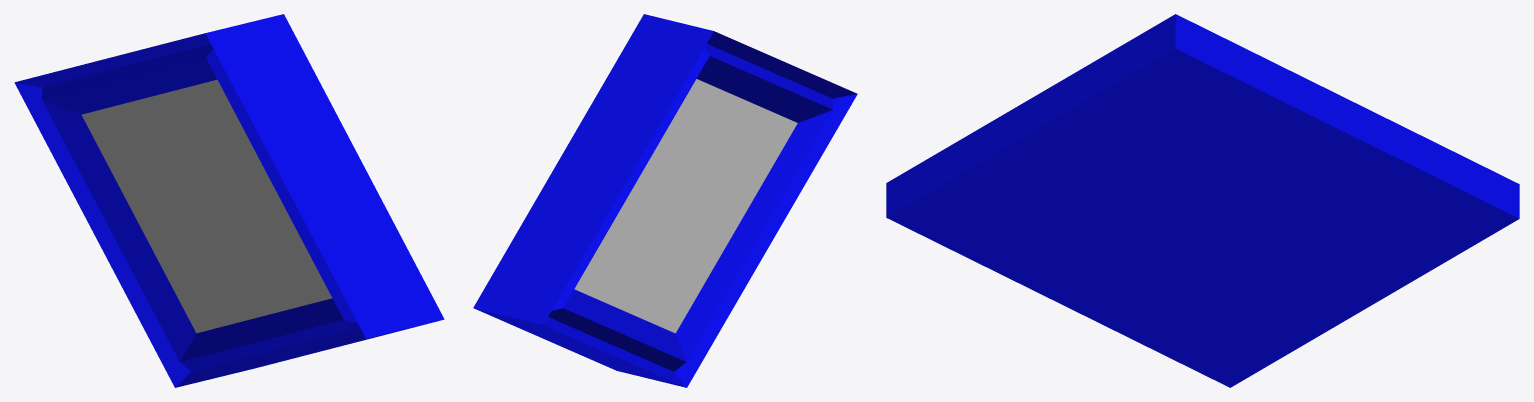
The model's file is BallarinaPainting.fbx.
3 views of the same model, side by side, from view 1: azimuth 30°, elevation 25°; view 2: azimuth 150°, elevation 25°; view 3: azimuth 270°, elevation 25° (orthographic). The views are drawn at different scales.
Visible parts, largest first — view 1: Painting1; view 2: Painting1; view 3: Painting1.
Boxes of the visible parts, bbox=[...] form: Painting1: bbox=[14, 14, 444, 387]; Painting1: bbox=[473, 14, 857, 387]; Painting1: bbox=[886, 14, 1519, 387].
Size of the model in its own units: 47.43 by 218 by 368.
